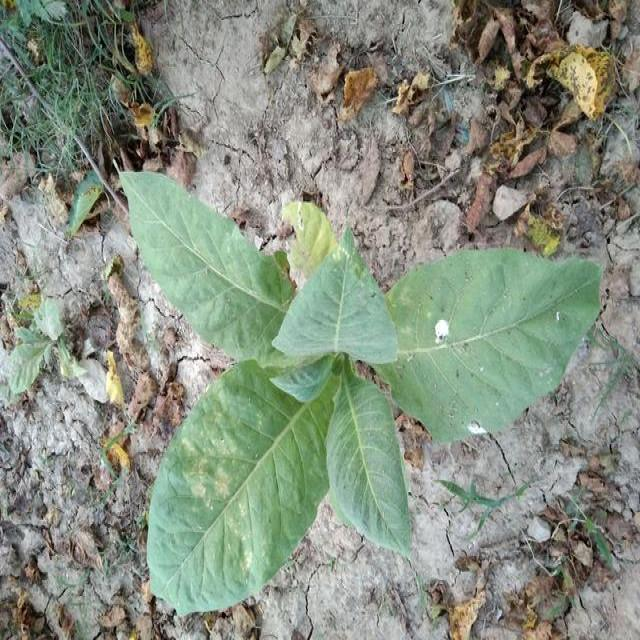crop: (110, 158, 595, 610)
